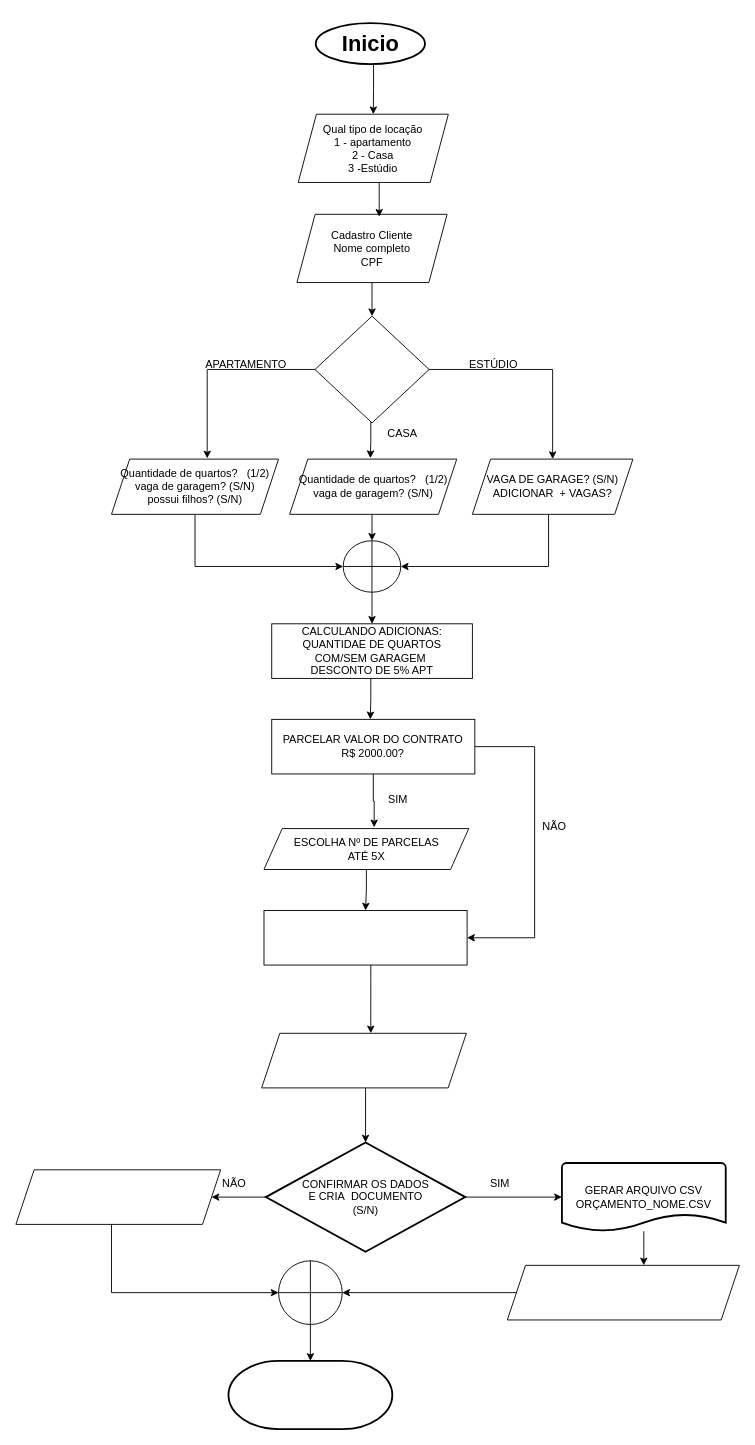
Some shapes in this 755 by 1445 pixel diagram are drawn without their labels. Here are the shapes that lost their labels. From the top down, the box of each, then its label:
(314, 315, 429, 423): locação selecionada
(263, 910, 467, 965): CALCULAR VALOR DAS PARCEAS ORÇAMENTO + CONTRATO
(261, 1032, 466, 1088): VALOR FINAL DO ORÇARMENTO
(15, 1169, 221, 1224): OPERAÇÃO CANCELADA
(506, 1264, 739, 1320): ARQUIVO GERADO COM SUCESSO!
(227, 1360, 393, 1430): FIM
